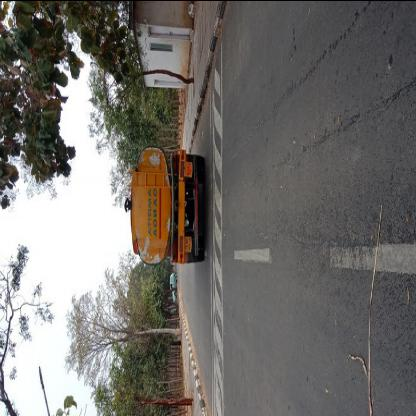speed-bumps: (204, 26, 230, 415)
